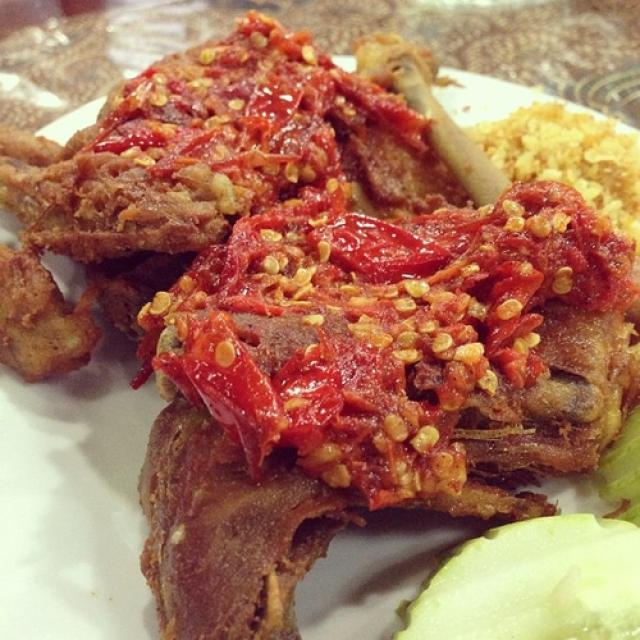鸡肉料理 含炸鸡: (22, 32, 630, 623)
